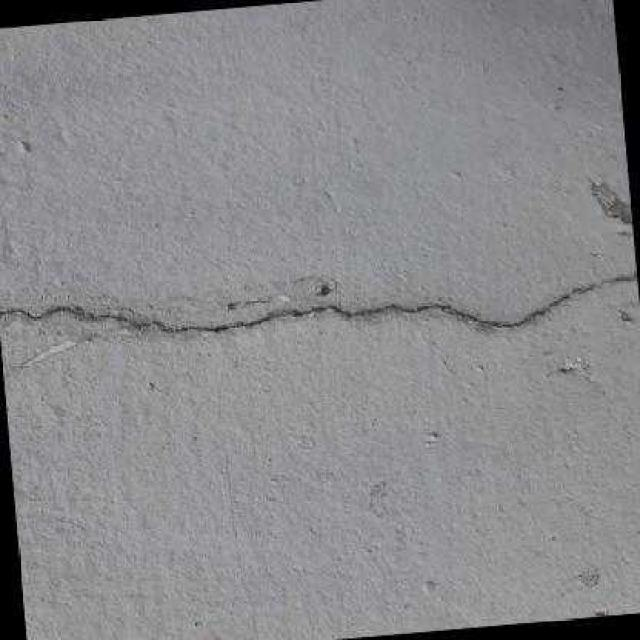D00: (0, 270, 637, 332)
